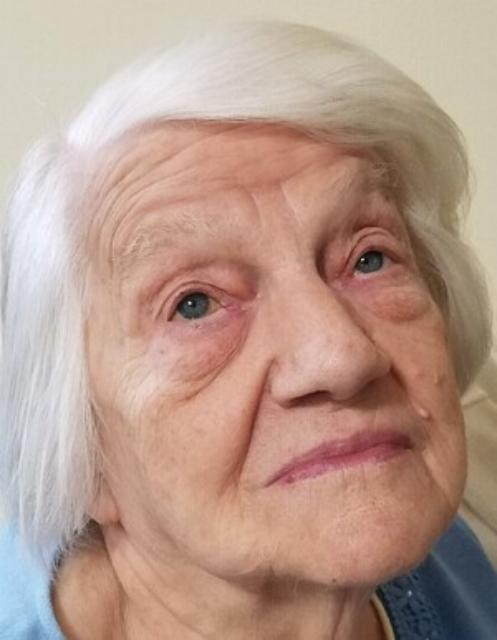forehead: (88, 153, 146, 235), (152, 128, 222, 160)
frown_line: (242, 177, 300, 235)
gummy_smile: (243, 369, 284, 468)
masseter: (120, 380, 154, 452), (174, 364, 230, 406)
sad_smile: (412, 438, 446, 508)
